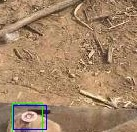text: (12, 103, 42, 132)
